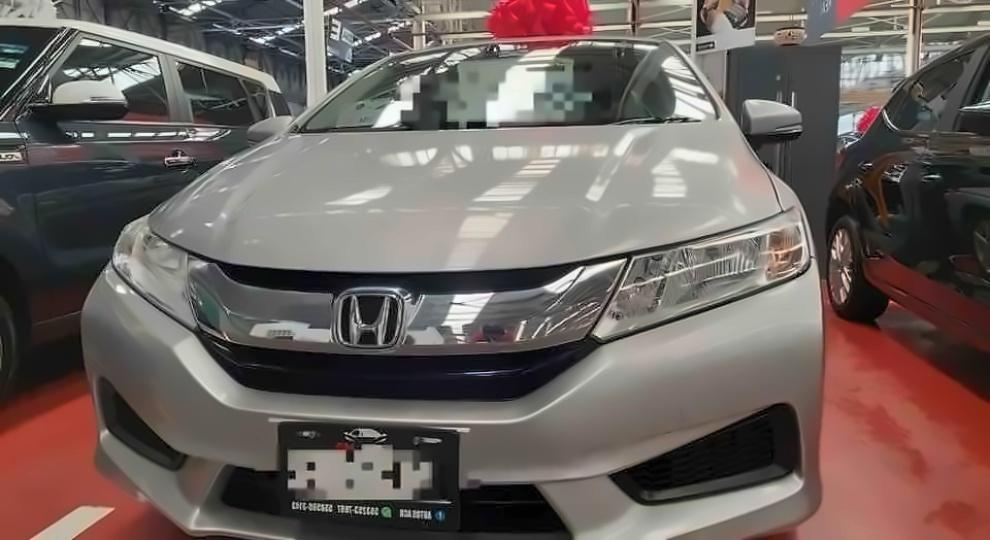Car hood: (147, 116, 785, 274)
Front bumper: (83, 265, 834, 540)
Headlight - -L-: (593, 203, 810, 347)
Headlight - -R-: (113, 214, 199, 336)
Side mirror - -L-: (739, 95, 805, 150)
Side mirror - -R-: (239, 112, 296, 153)
